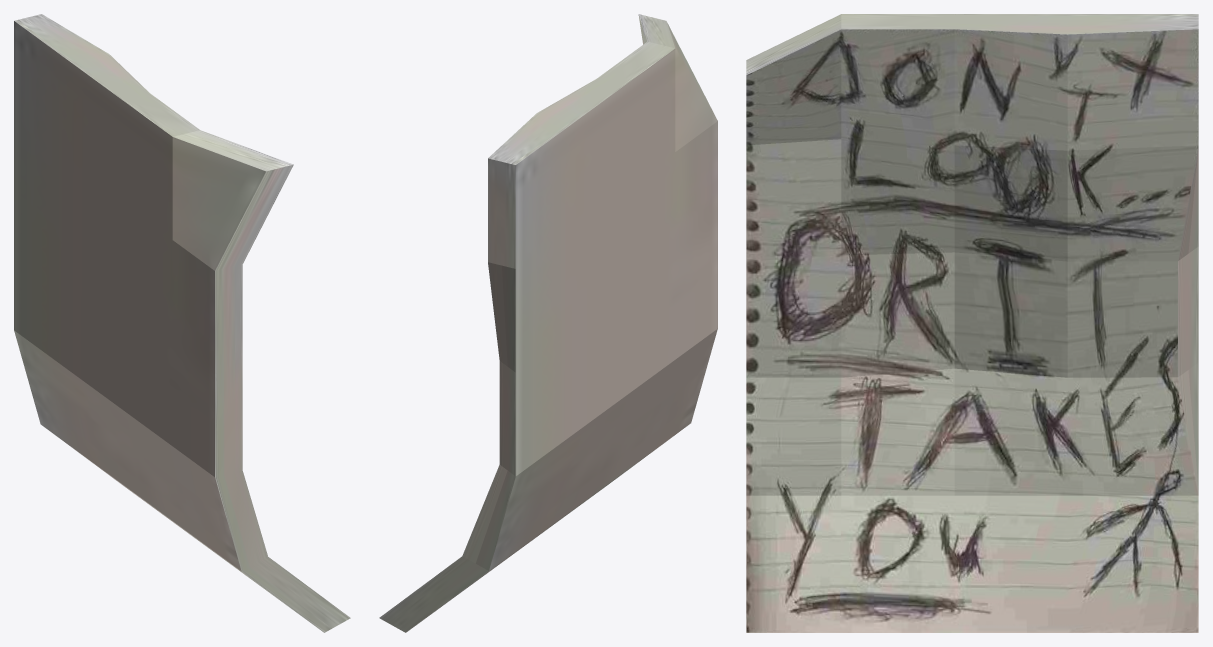
Rendered from paper.glb.
3 renders of one model, left to right at view 1: azimuth 30°, elevation 25°; view 2: azimuth 150°, elevation 25°; view 3: azimuth 270°, elevation 25°, orthographic. The views are drawn at different scales.
Parts seen in each view (by area): view 1: Cube; view 2: Cube; view 3: Cube.
Boxes of the visible parts, x1,y1,x2,y2 form: Cube: [14, 14, 350, 632]; Cube: [379, 14, 717, 632]; Cube: [746, 14, 1198, 632].
Bounding box in the file's own units: 0.7812 × 2.7 × 2.
1 material, 1 textured.
